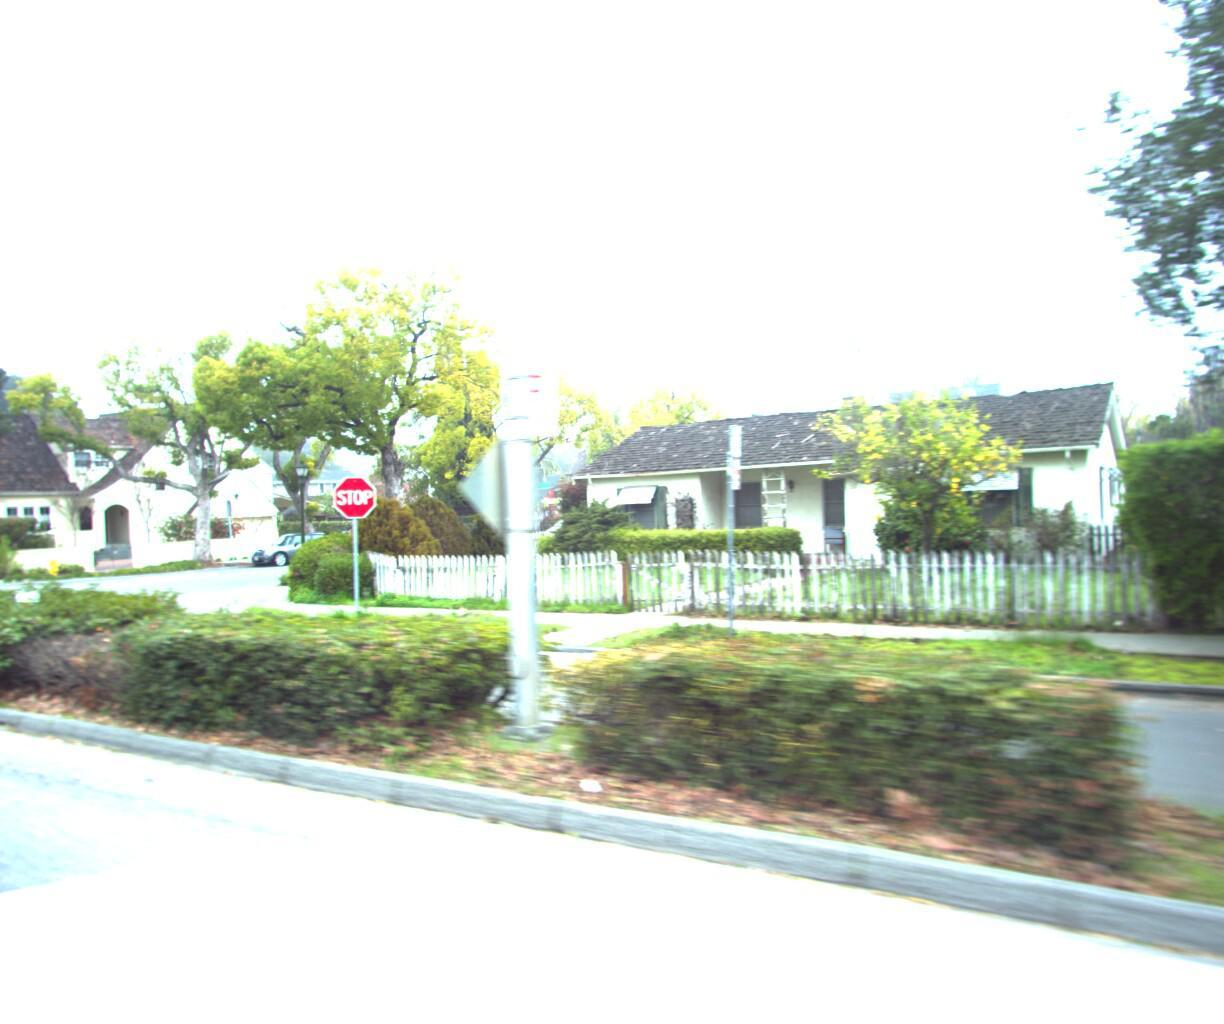car: (239, 524, 348, 563)
